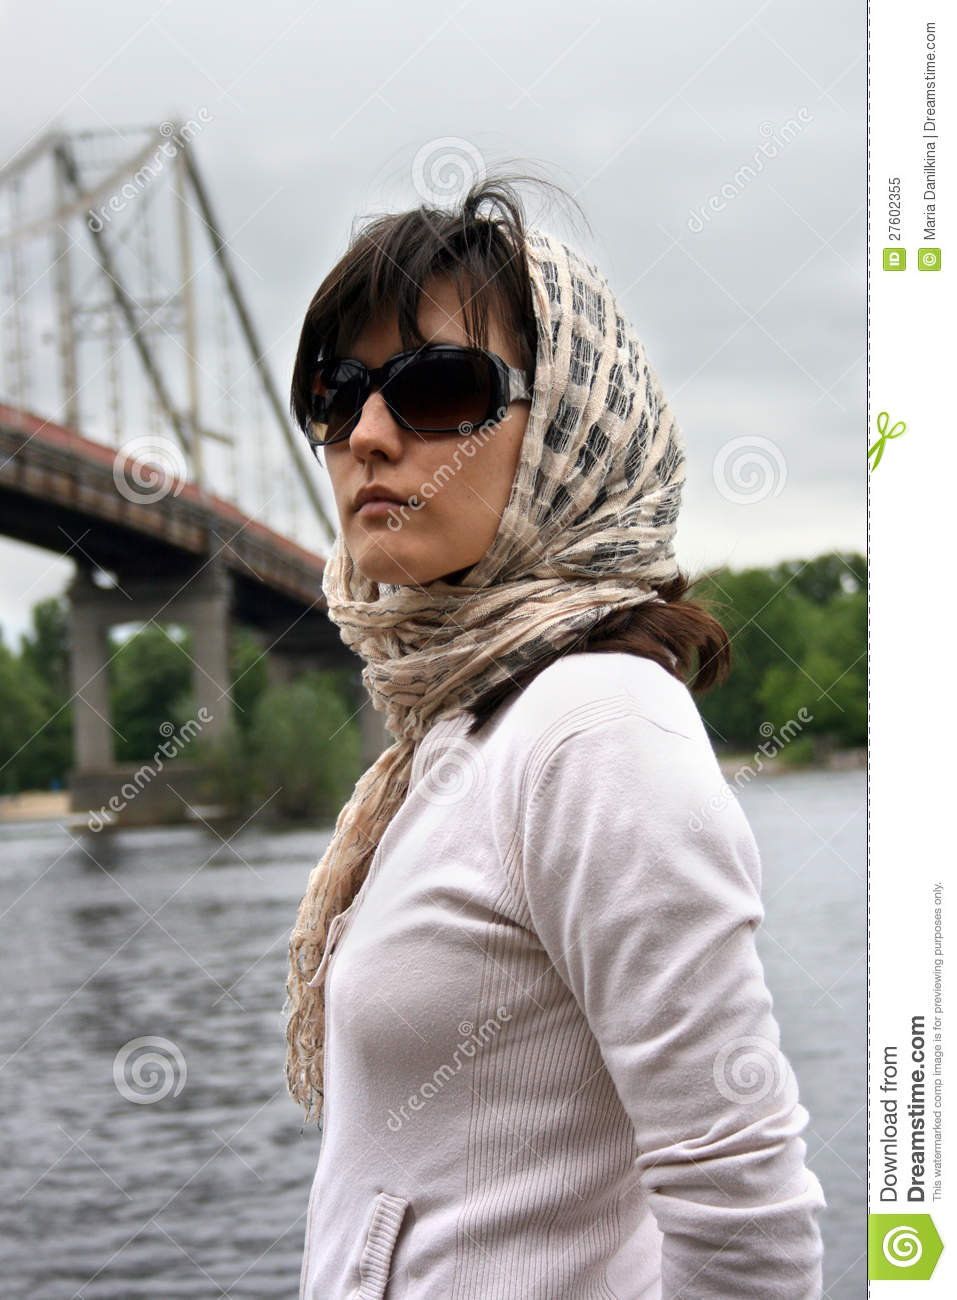glasses: (277, 336, 534, 455)
